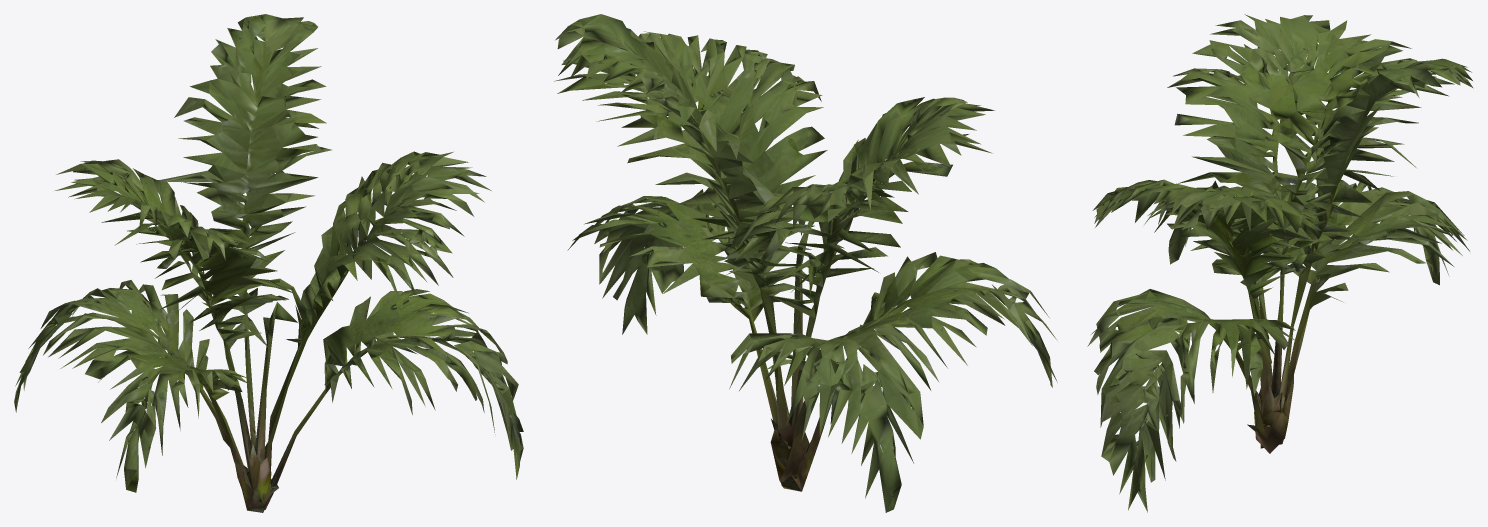
The model's file is understory_palm.glb.
The picture shows the model from 3 angles, left to right: view 1: azimuth 30°, elevation 25°; view 2: azimuth 150°, elevation 25°; view 3: azimuth 270°, elevation 25°; orthographic projection. The views are drawn at different scales.
Parts seen in each view (by area): view 1: lod0; view 2: lod0; view 3: lod0.
Boxes of the visible parts, x1,y1,x2,y2 form: lod0: (14,14,523,512); lod0: (554,14,1057,512); lod0: (1087,14,1473,512).
Size of the model in its own units: 1.2 by 1.2 by 0.9737.
1 material, 1 textured.
